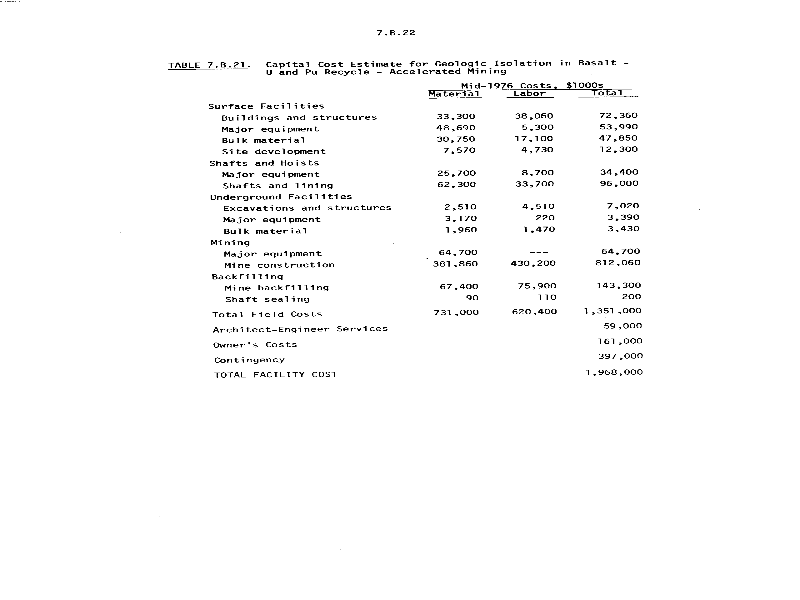table: (203, 79, 646, 389)
